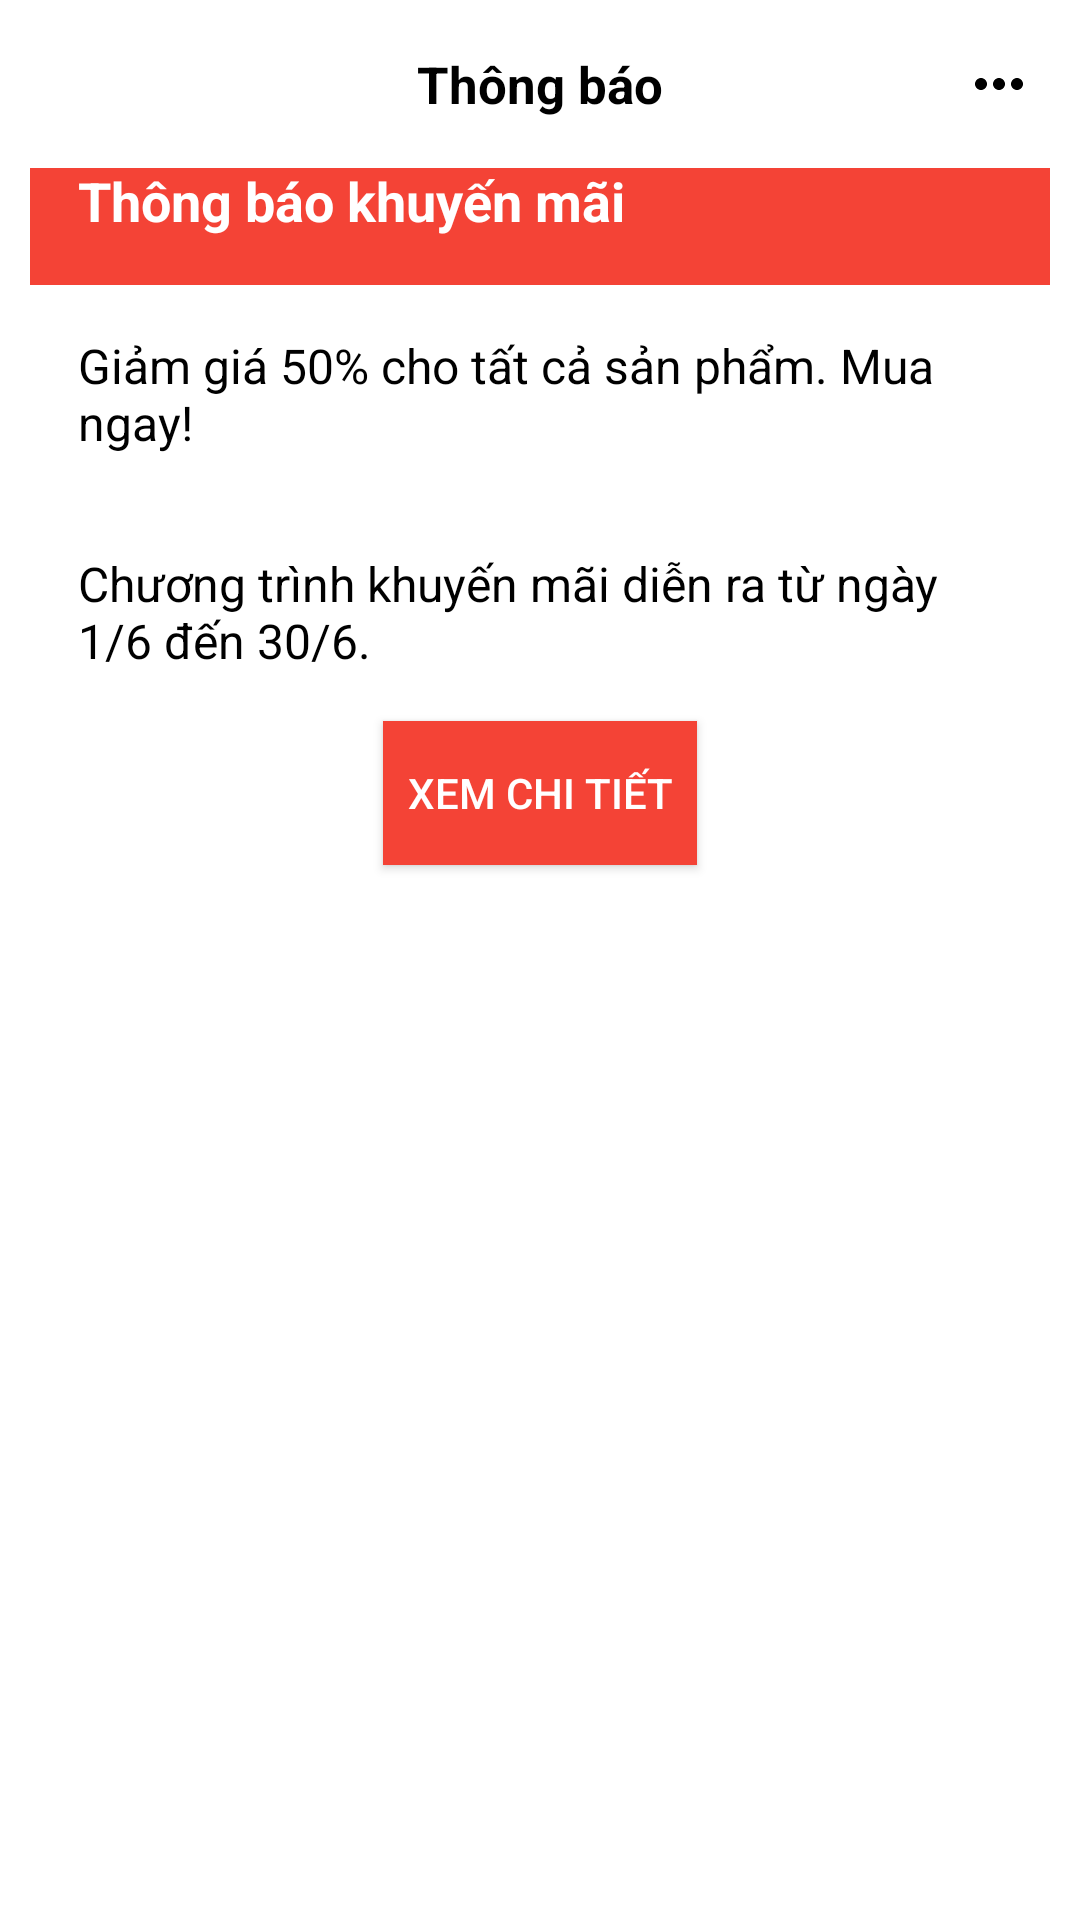

Screen size 1080×1920. Icon name, then its center in pixels as point (x, y):
option: point (999, 84)
